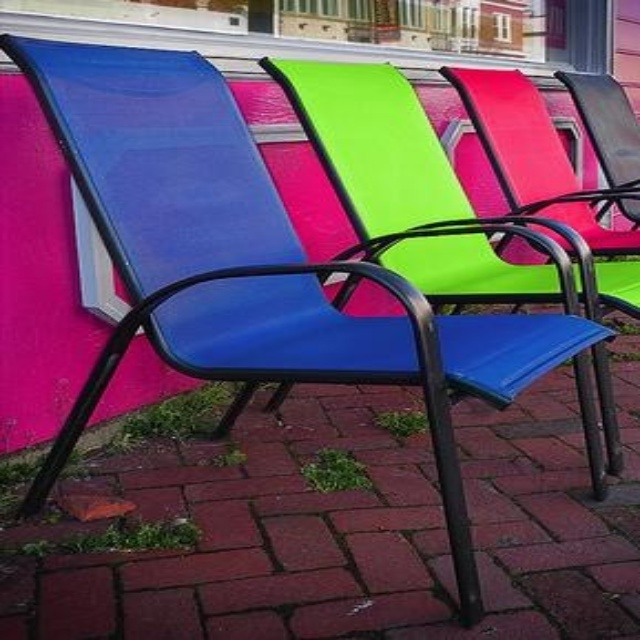obstacle: (2, 36, 609, 624)
